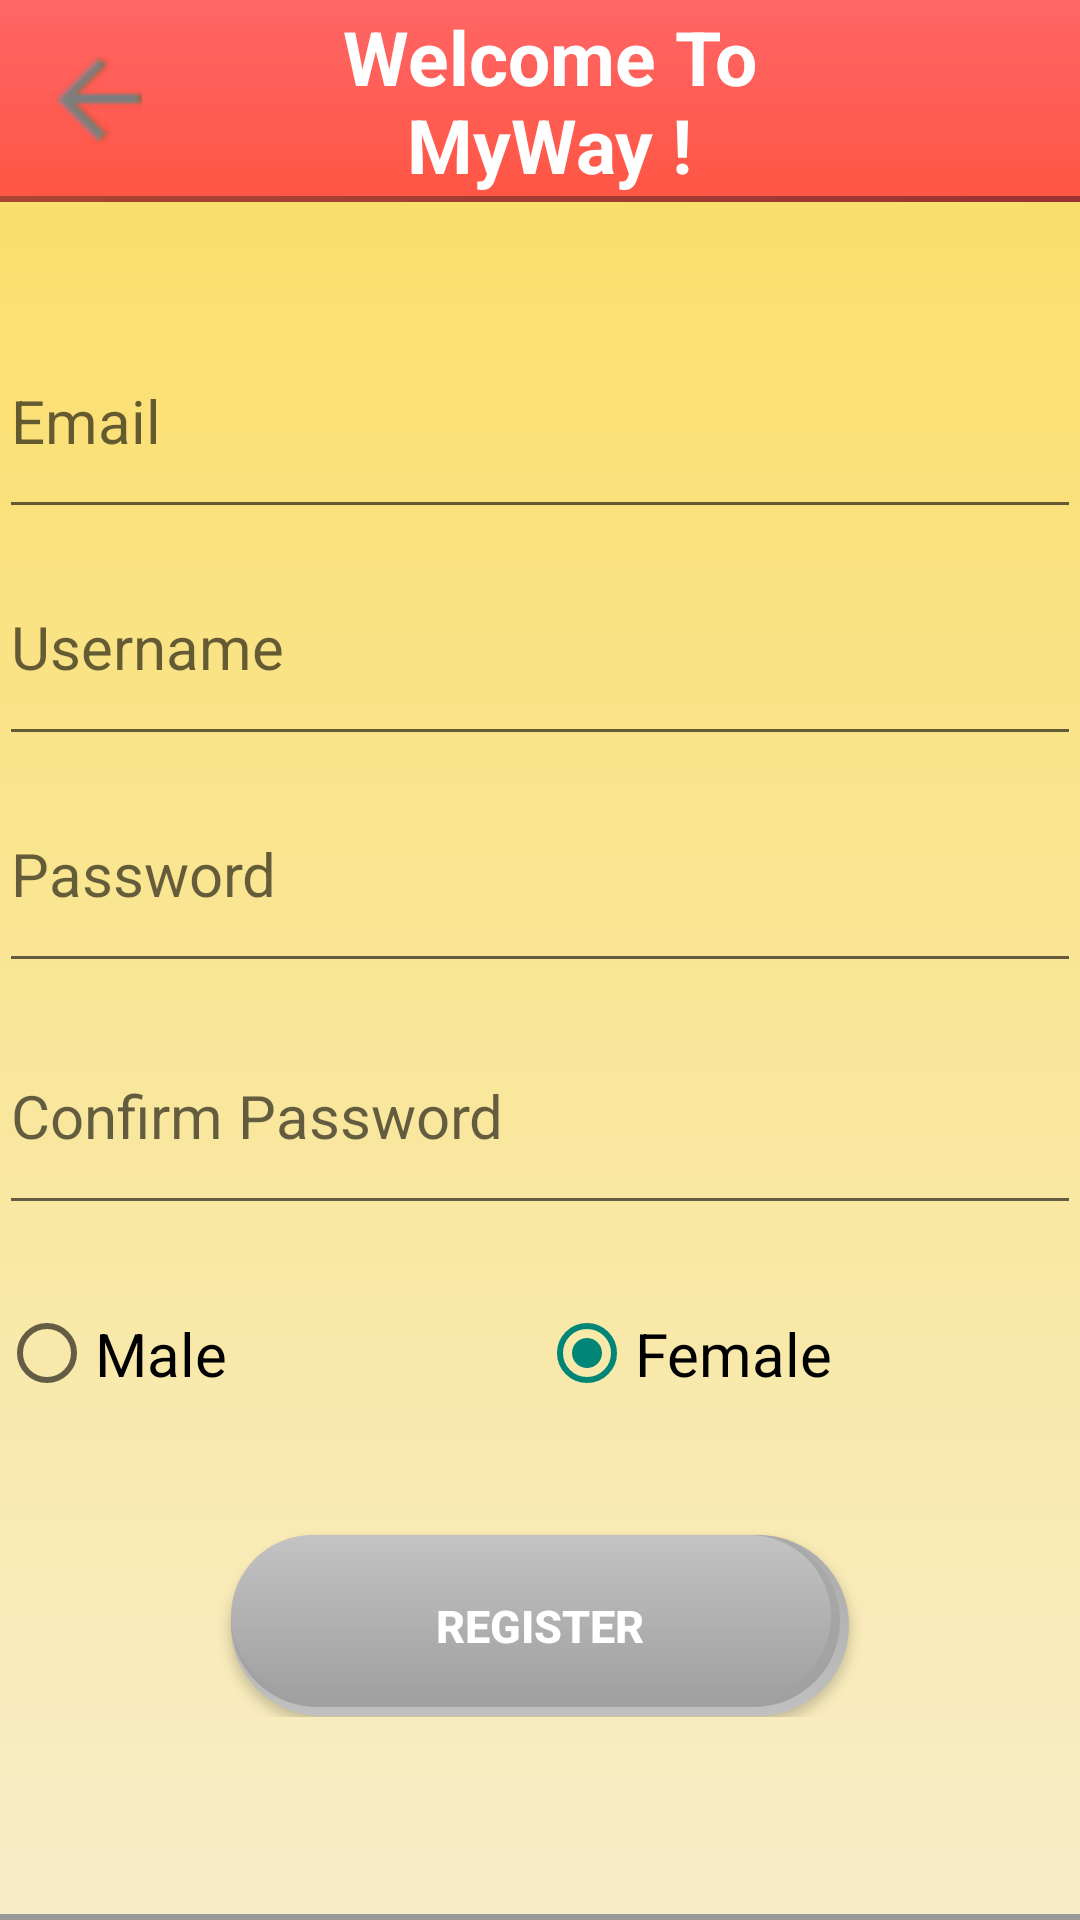

Where icons sit on this 1080w x 1920h app screen, as {"left": x1, "top": y1, "right": x2, "bottom": y2}:
left: {"left": 54, "top": 57, "right": 142, "bottom": 148}
